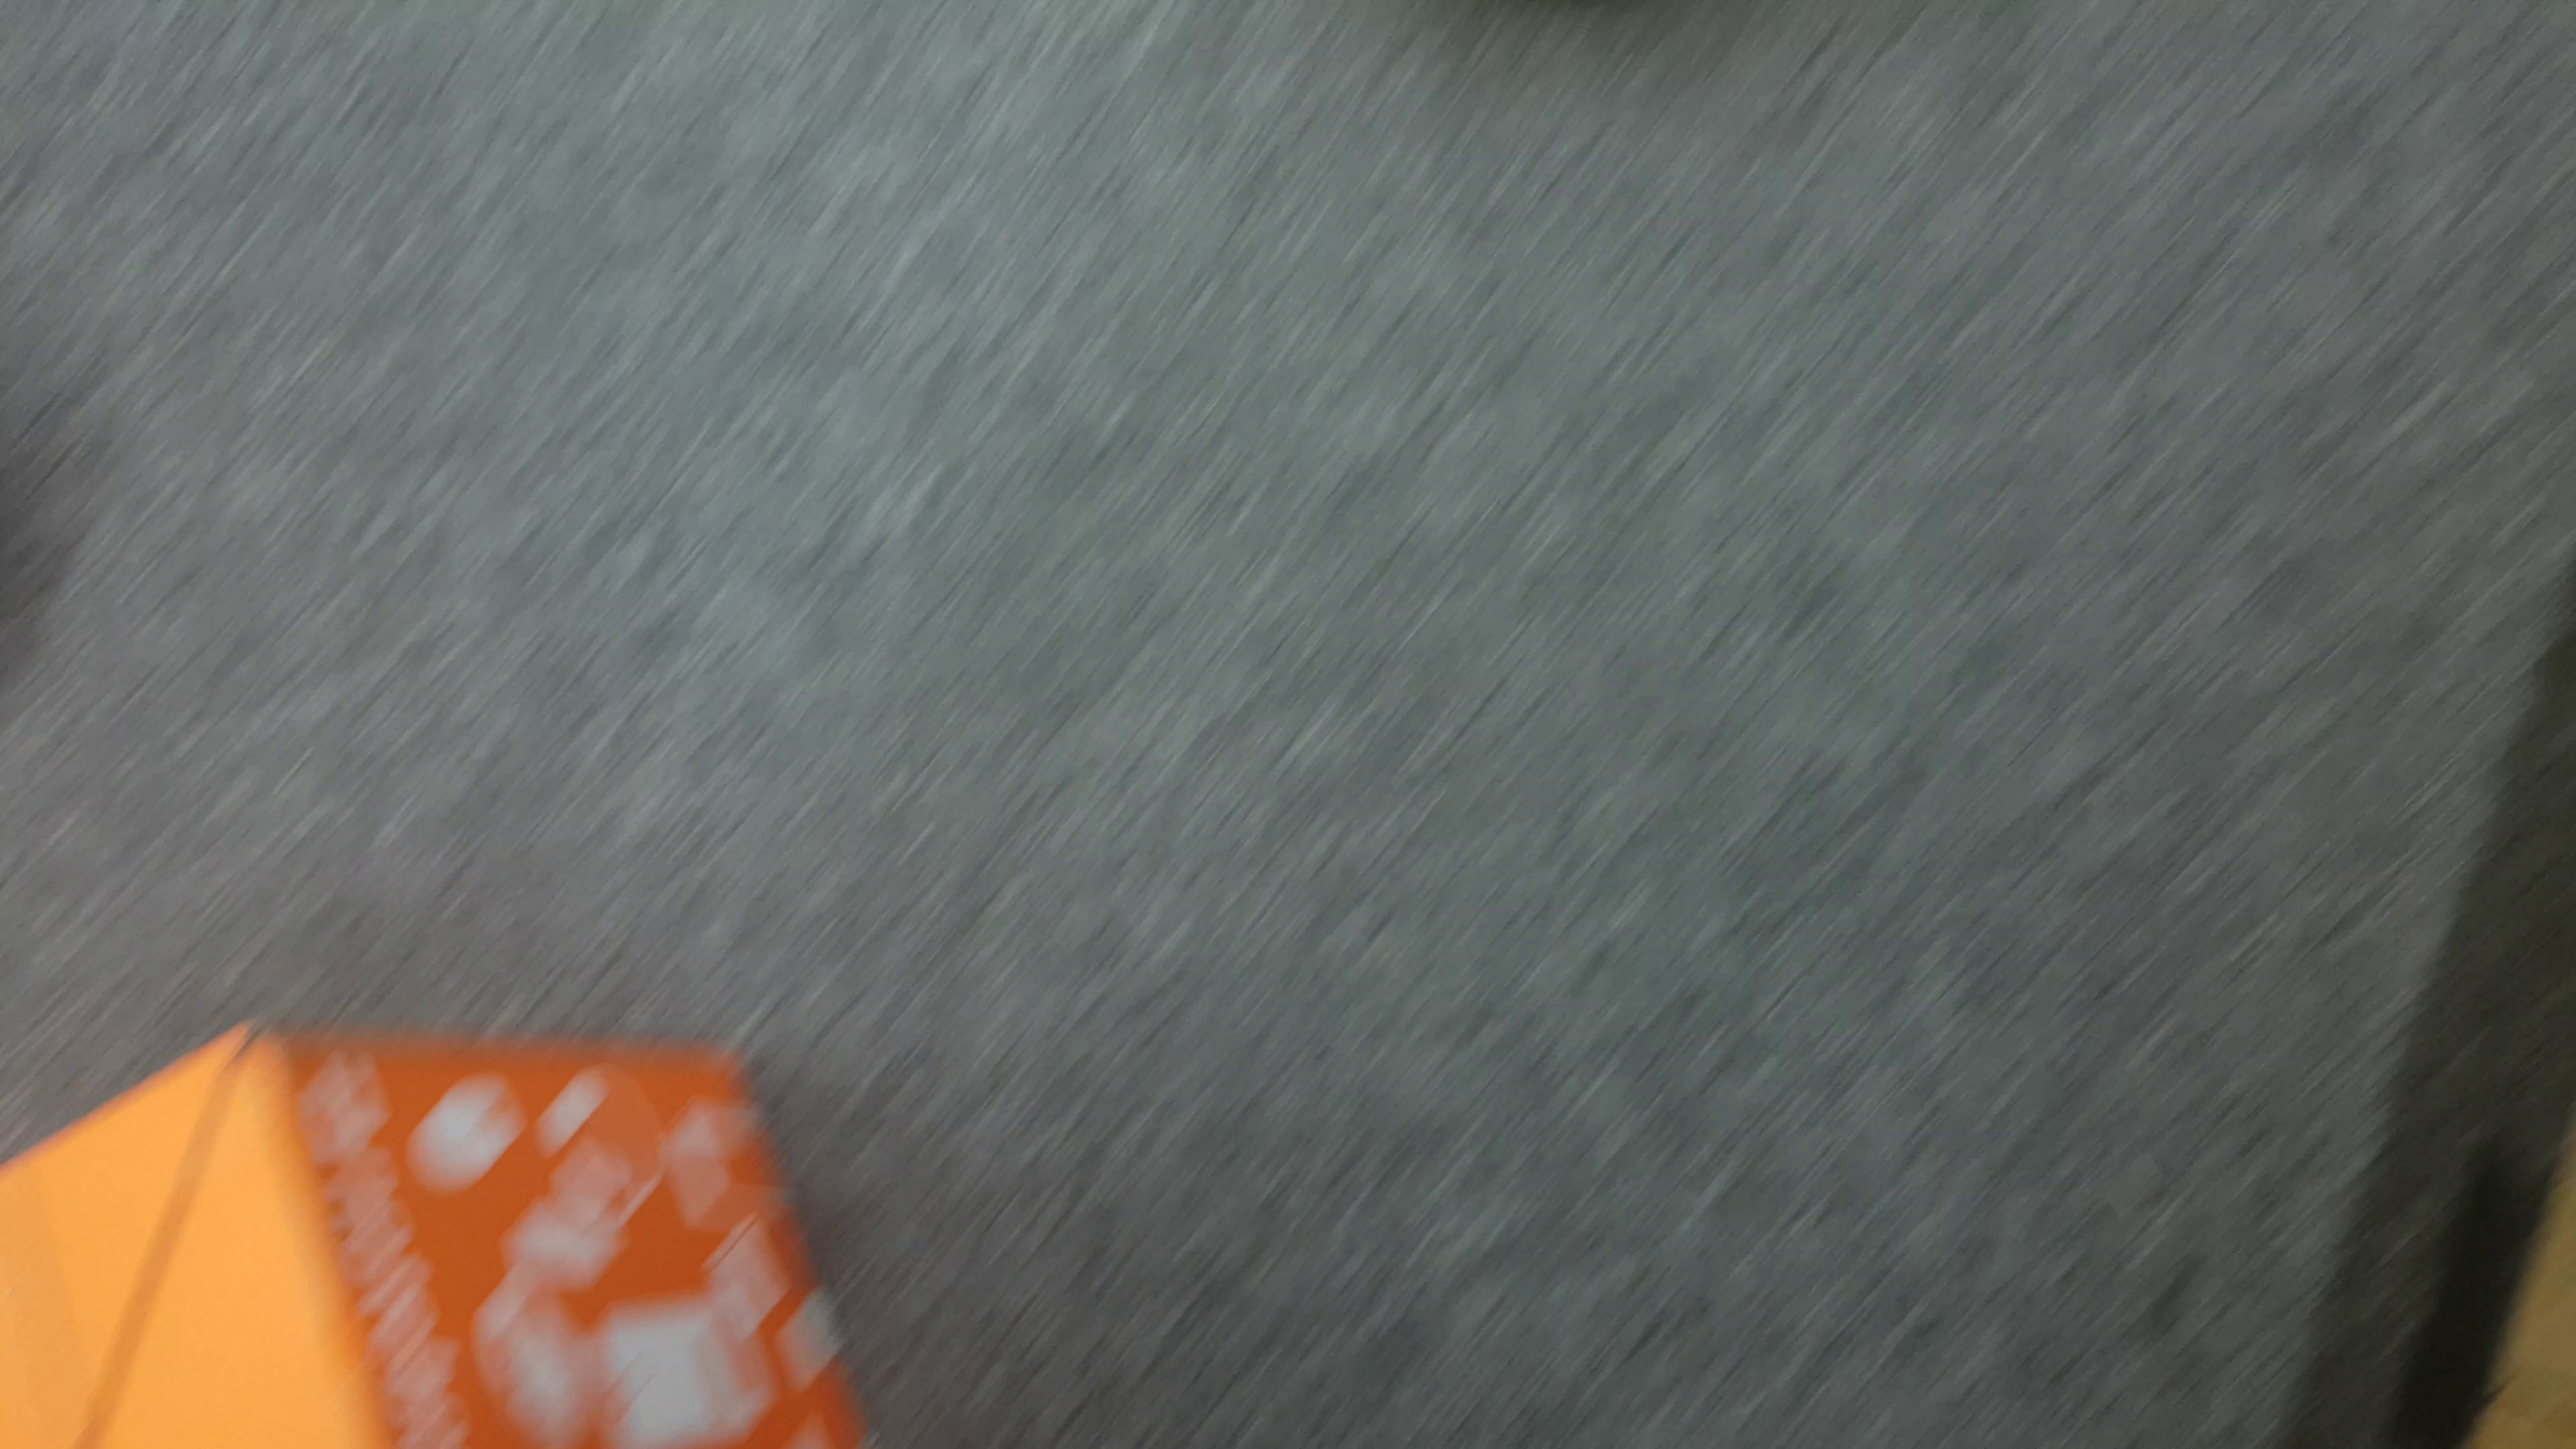push: (7, 1028, 876, 1449)
